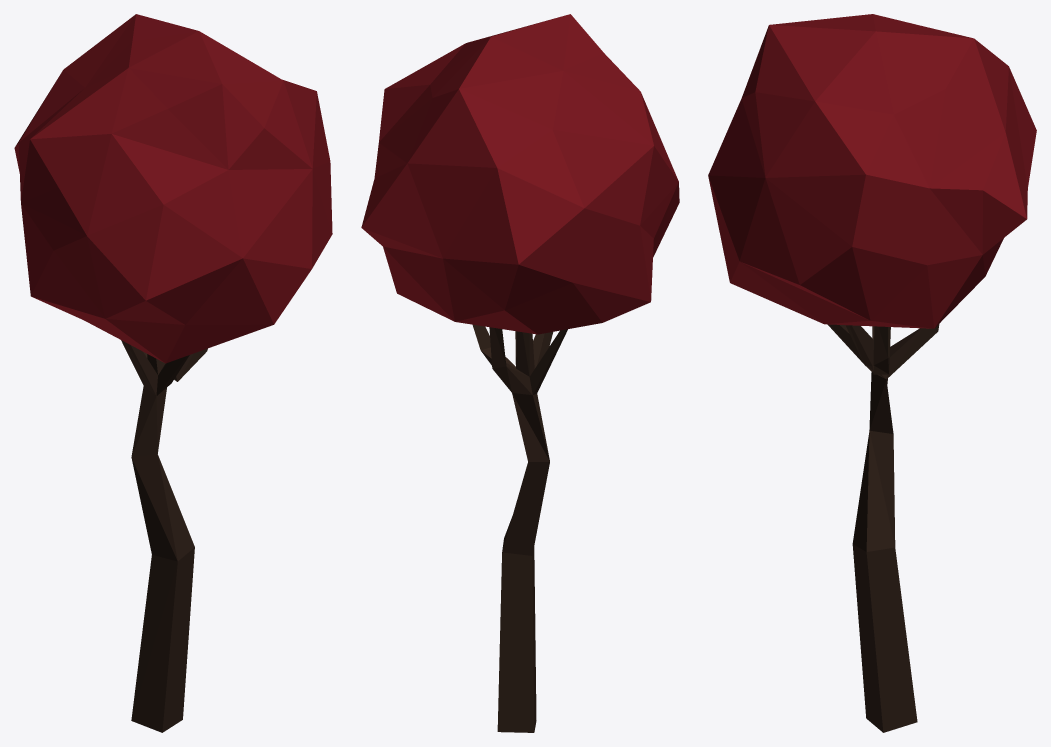
File: Arvore02.fbx
3 renders of one model, left to right at view 1: azimuth 30°, elevation 25°; view 2: azimuth 150°, elevation 25°; view 3: azimuth 270°, elevation 25°, orthographic. The views are drawn at different scales.
Visible parts, largest first — view 1: Cube.002; view 2: Cube.002; view 3: Cube.002.
Part boxes in pixels (x1,y1,x2,y2): Cube.002: (14, 14, 332, 732); Cube.002: (361, 14, 679, 732); Cube.002: (708, 14, 1036, 732).
Size of the model in its own units: 197 by 451 by 190.
